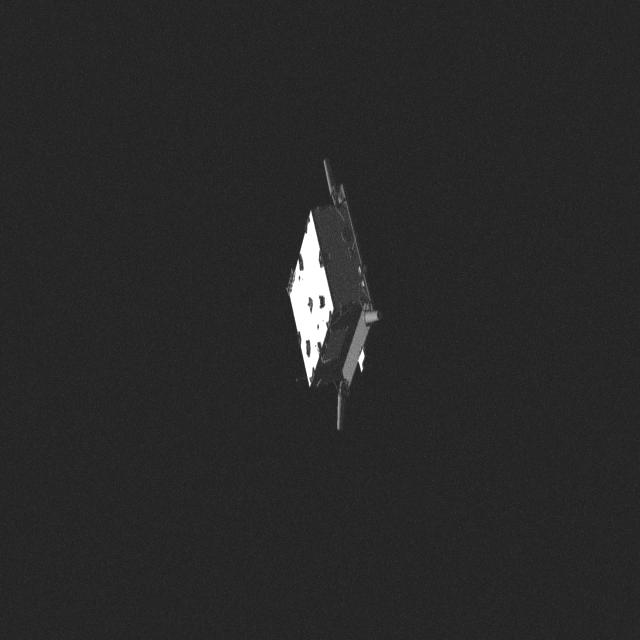medium_debris: (284, 158, 384, 426)
